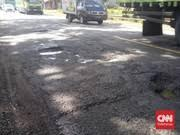Pothole: (137, 64, 180, 104), (36, 45, 99, 68), (96, 45, 137, 66)
